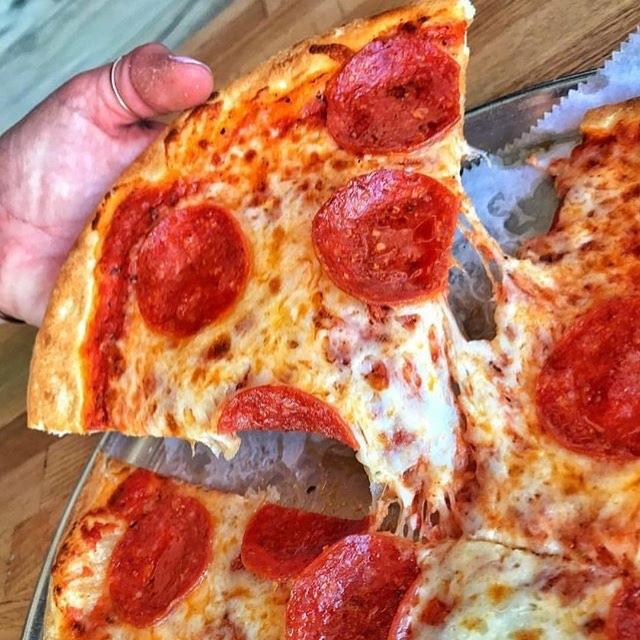pepperoni: (309, 164, 456, 306), (533, 292, 640, 467), (323, 30, 460, 158), (133, 202, 249, 341), (106, 495, 217, 631), (285, 531, 422, 640), (241, 503, 373, 599), (216, 382, 362, 454), (604, 573, 640, 640)
pizza: (28, 0, 640, 639)
